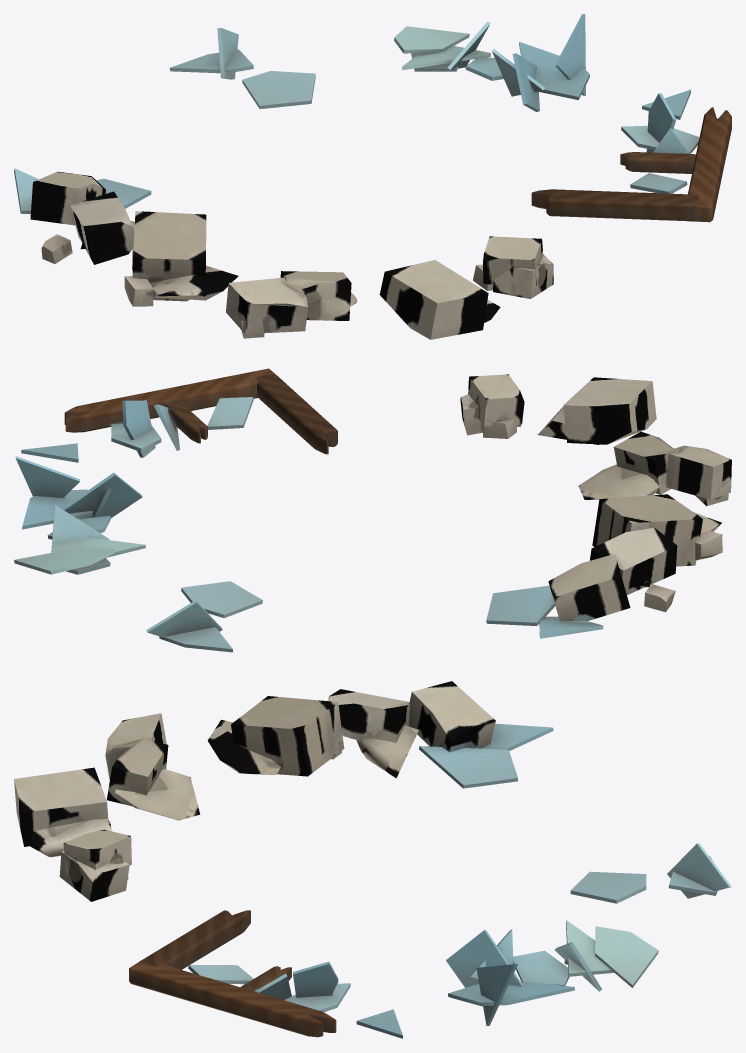
The model's file is rough-glass-1.glb.
The picture shows the model from 3 angles, top to bottom: view 1: azimuth 30°, elevation 25°; view 2: azimuth 150°, elevation 25°; view 3: azimuth 270°, elevation 25°; orthographic projection.
Parts seen in each view (by area): view 1: rough-glass-1; view 2: rough-glass-1; view 3: rough-glass-1.
Part boxes in pixels (box(x1,y1,x2,y2)): rough-glass-1: box(14, 14, 731, 339); rough-glass-1: box(14, 368, 731, 652); rough-glass-1: box(14, 681, 731, 1038).
Size of the model in its own units: 1.56 by 0.1576 by 1.48.
Materials: 1 (1 with a texture image).
